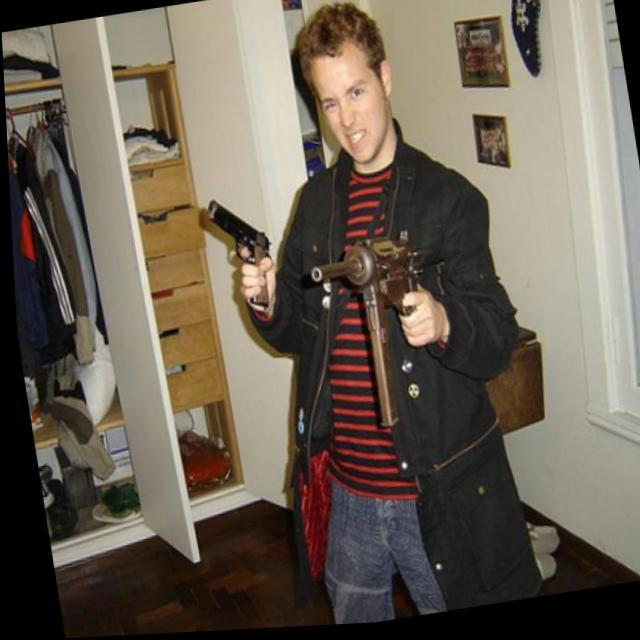weapon: (290, 217, 448, 442), (200, 189, 276, 319)
